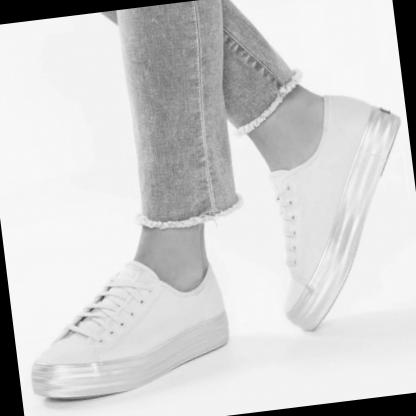ankle: (319, 137, 324, 142), (189, 289, 193, 293)
heel: (219, 309, 225, 315), (367, 106, 371, 110)
left_foot: (259, 92, 416, 336)
pinky: (103, 358, 107, 362), (291, 289, 293, 291)
right_foot: (20, 264, 235, 406)
toe: (42, 357, 46, 361), (298, 298, 300, 300)
